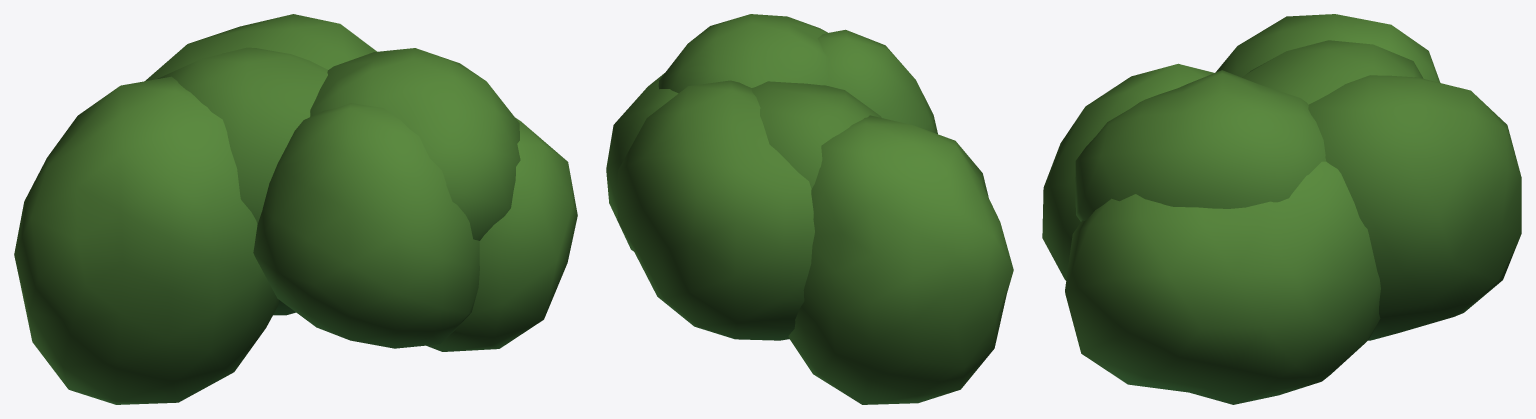
Rendered from cc_arbusto_1.glb.
3 views of the same model, side by side, from view 1: azimuth 30°, elevation 25°; view 2: azimuth 150°, elevation 25°; view 3: azimuth 270°, elevation 25° (orthographic). The views are drawn at different scales.
Visible parts, largest first — view 1: cc_arbusto_1_leaf_copa; view 2: cc_arbusto_1_leaf_copa; view 3: cc_arbusto_1_leaf_copa.
Part boxes in pixels (left/top/right/bottom): cc_arbusto_1_leaf_copa: left=14, top=14, right=577, bottom=404; cc_arbusto_1_leaf_copa: left=606, top=14, right=1013, bottom=404; cc_arbusto_1_leaf_copa: left=1042, top=14, right=1521, bottom=404.
Bounding box in the file's own units: 2.07 × 1.4 × 1.77.
